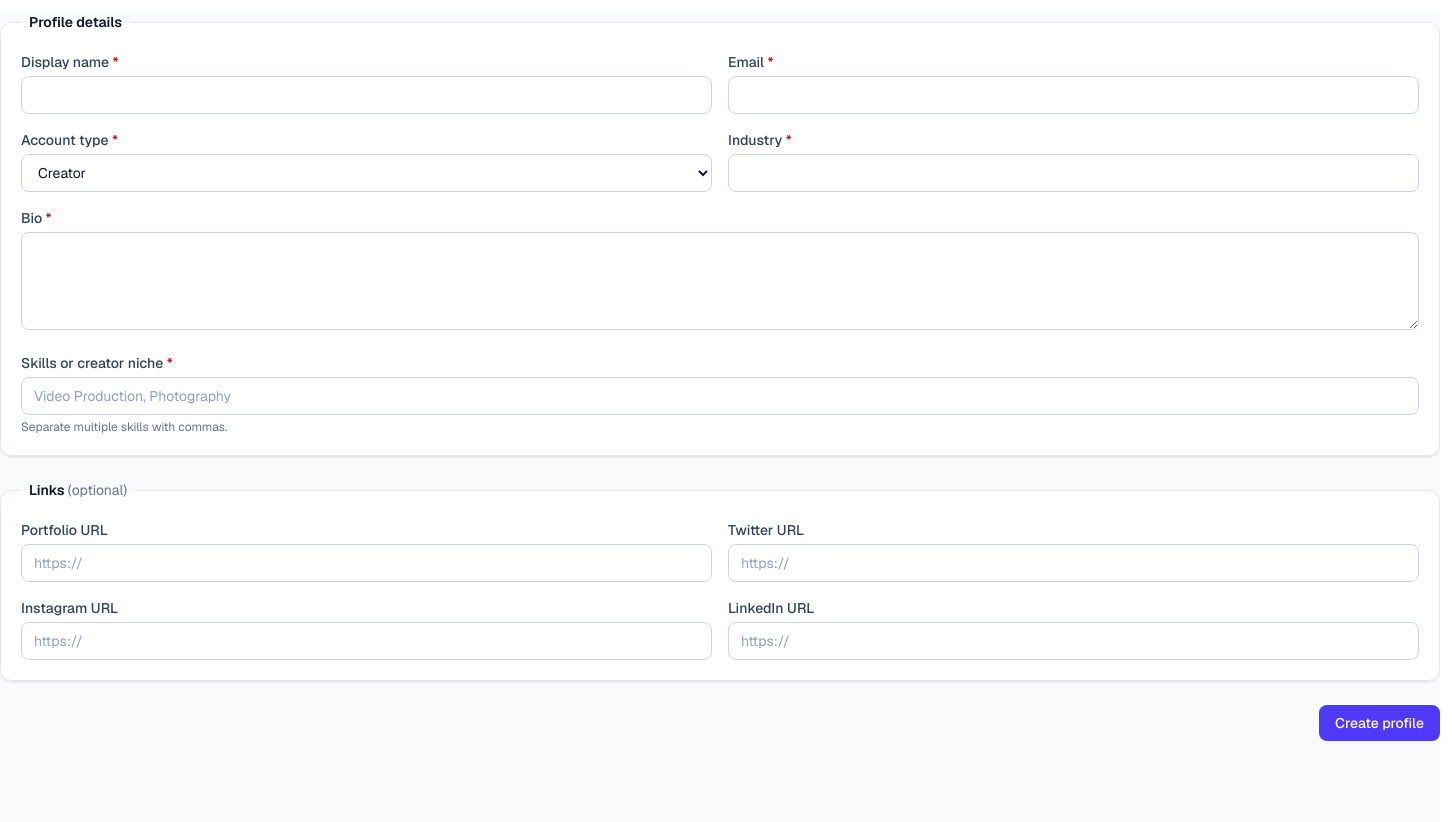
Scenario: ProfileForm validation › shows a field level error when the display name is missing
Click the button "Create profile": coordinates (1380, 723) [1319,705,1440,741]
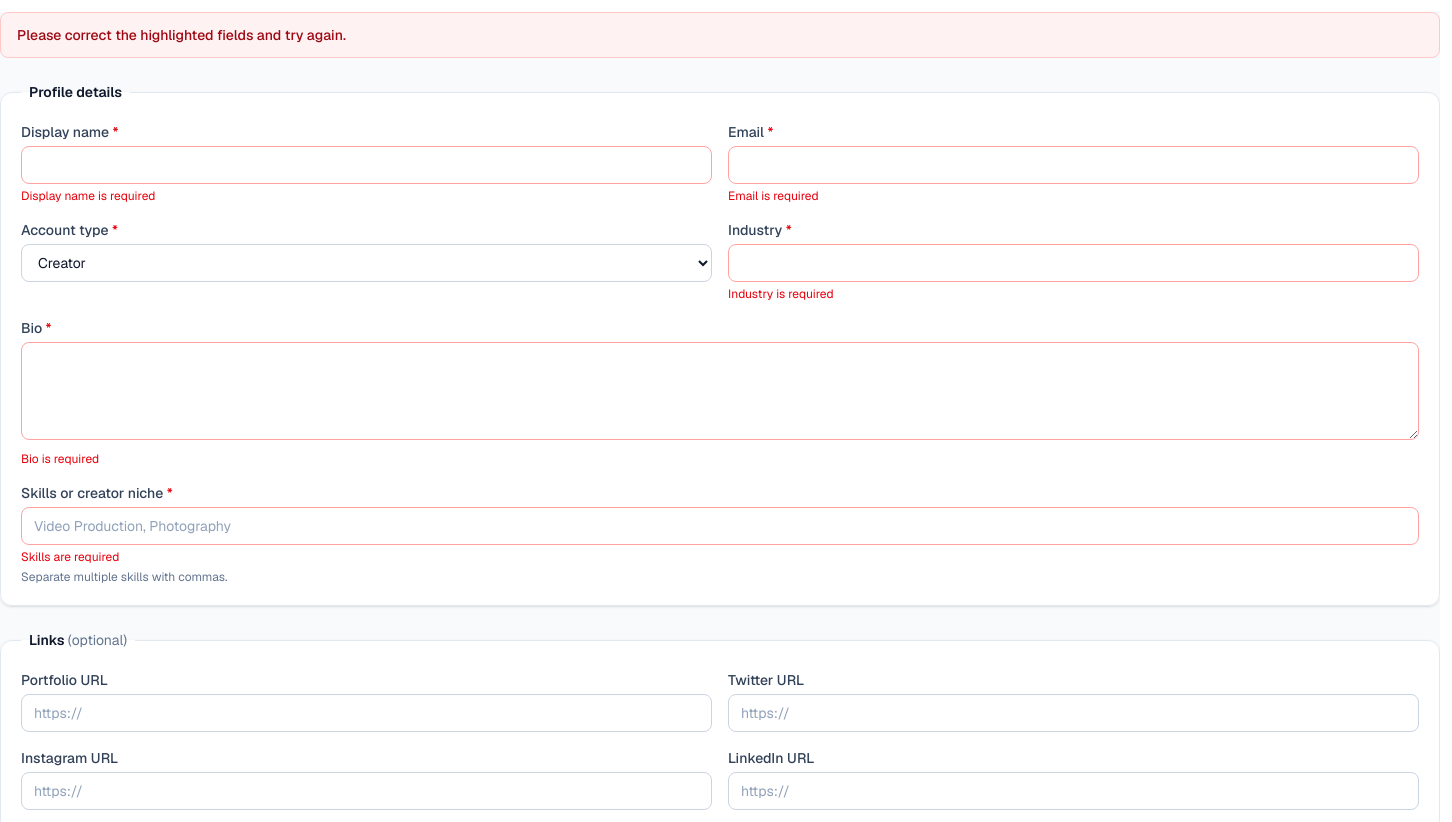
Now the text "Display name is required" is shown, box [21,188,155,204]
